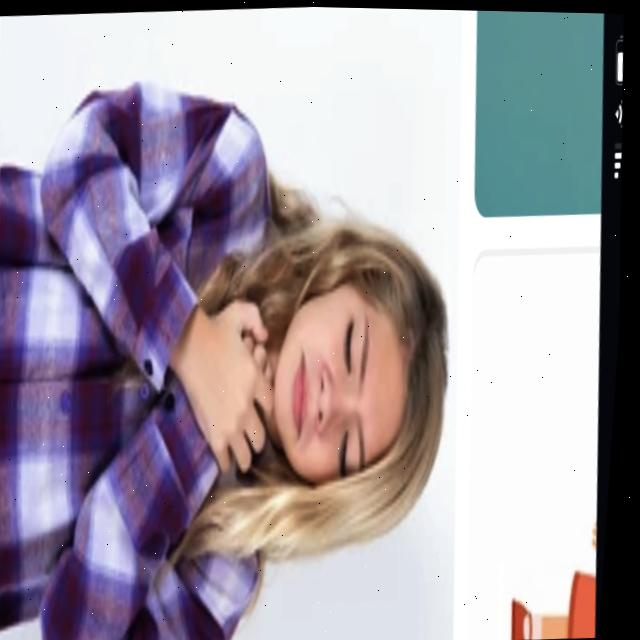sad: (261, 263, 416, 506)
